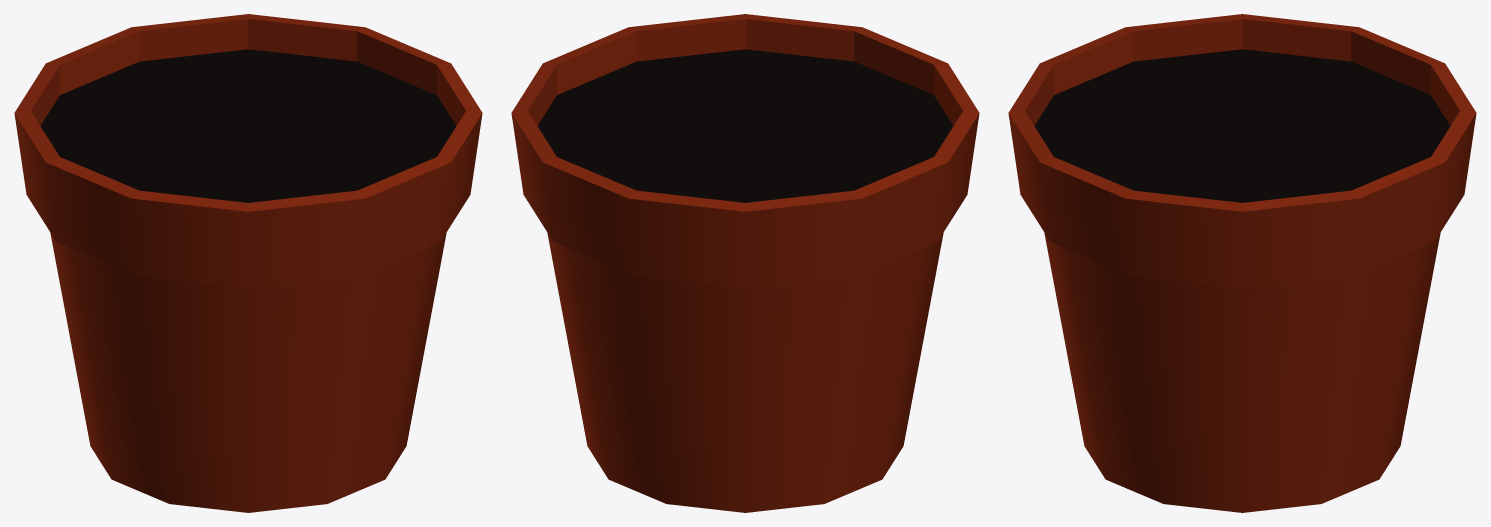
The model's file is vaso de flores.FBX.
3 renders of one model, left to right at view 1: azimuth 30°, elevation 25°; view 2: azimuth 150°, elevation 25°; view 3: azimuth 270°, elevation 25°, orthographic.
Parts seen in each view (by area): view 1: Cylinder001; view 2: Cylinder001; view 3: Cylinder001.
Part boxes in pixels (box(x1,y1,x2,y2)): Cylinder001: box(14, 14, 482, 512); Cylinder001: box(511, 14, 979, 512); Cylinder001: box(1008, 14, 1476, 512).
Size of the model in its own units: 14.3 by 11.3 by 14.3.
